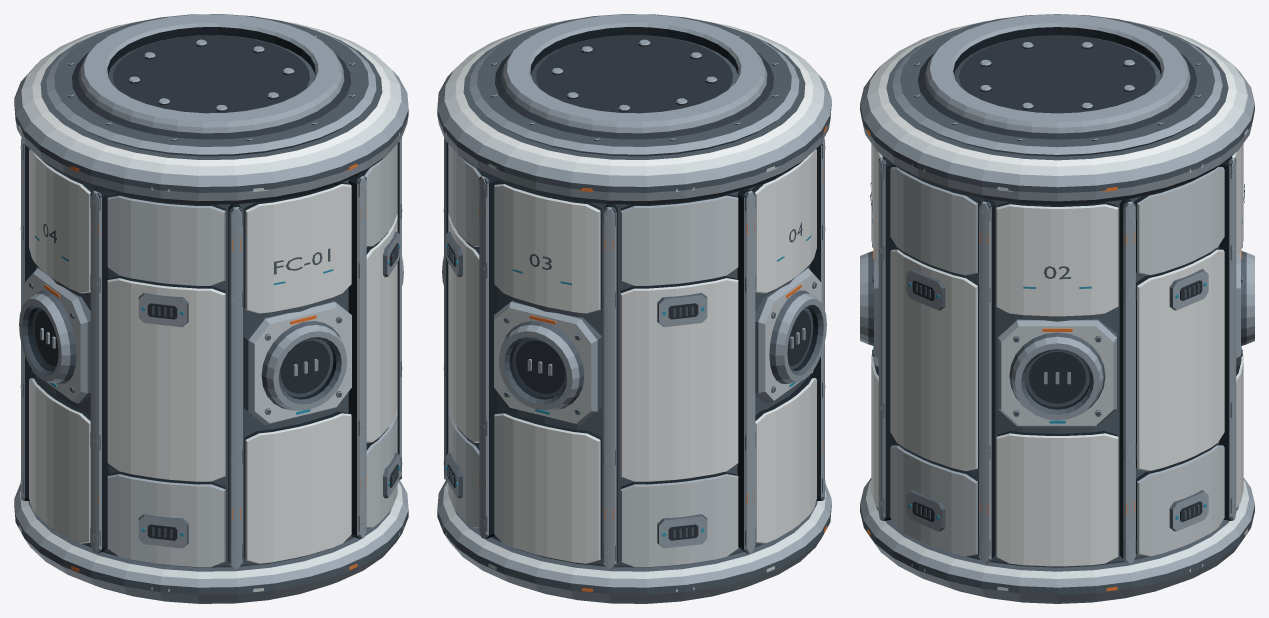
Rendered from fuselaje_central.glb.
The picture shows the model from 3 angles, left to right: view 1: azimuth 30°, elevation 25°; view 2: azimuth 150°, elevation 25°; view 3: azimuth 270°, elevation 25°; orthographic projection.
Parts seen in each view (by area): view 1: FC | Carenados segmentados 06, FC | Carenados segmentados 07, FC | Asiento anular de cabina, FC | Anillo estructural superior, FC | Refuerzos longitudinales de titanio, FC | Carenados segmentados 05, FC | Anillo estructural inferior, FC | Placa de interfaz de cabina, FC | Puerto lateral 01 · Frontal, FC | Carenados segmentados 08, FC | Puerto lateral 04 · Babor, FC | Cilindro estructural (+5 smaller); view 2: FC | Carenados segmentados 04, FC | Carenados segmentados 03, FC | Asiento anular de cabina, FC | Anillo estructural superior, FC | Refuerzos longitudinales de titanio, FC | Carenados segmentados 05, FC | Anillo estructural inferior, FC | Placa de interfaz de cabina, FC | Puerto lateral 03 · Posterior, FC | Carenados segmentados 02, FC | Puerto lateral 04 · Babor, FC | Cilindro estructural (+5 smaller); view 3: FC | Carenados segmentados 02, FC | Carenados segmentados 08, FC | Carenados segmentados 01, FC | Asiento anular de cabina, FC | Anillo estructural superior, FC | Refuerzos longitudinales de titanio, FC | Anillo estructural inferior, FC | Placa de interfaz de cabina, FC | Puerto lateral 02 · Estribor, FC | Cilindro estructural, FC | Registros de inspección 01, FC | Registros de inspección 04 (+6 smaller).
Boxes of the visible parts, box(x1,y1,x2,y2) form: FC | Carenados segmentados 06: box(107, 194, 225, 567); FC | Carenados segmentados 07: box(244, 182, 351, 563); FC | Asiento anular de cabina: box(46, 14, 376, 156); FC | Anillo estructural superior: box(14, 20, 408, 204); FC | Refuerzos longitudinales de titanio: box(21, 138, 401, 569); FC | Carenados segmentados 05: box(29, 149, 94, 543); FC | Anillo estructural inferior: box(14, 480, 408, 603); FC | Placa de interfaz de cabina: box(108, 35, 314, 113); FC | Puerto lateral 01 · Frontal: box(243, 300, 351, 424); FC | Carenados segmentados 08: box(360, 144, 397, 528); FC | Puerto lateral 04 · Babor: box(19, 267, 90, 403); FC | Cilindro estructural: box(36, 179, 366, 567); FC | Carenados segmentados 04: box(620, 194, 738, 567); FC | Carenados segmentados 03: box(494, 182, 601, 563); FC | Asiento anular de cabina: box(469, 14, 799, 156); FC | Anillo estructural superior: box(437, 20, 831, 204); FC | Refuerzos longitudinales de titanio: box(444, 138, 824, 569); FC | Carenados segmentados 05: box(751, 149, 816, 543); FC | Anillo estructural inferior: box(437, 480, 831, 603); FC | Placa de interfaz de cabina: box(531, 35, 737, 113); FC | Puerto lateral 03 · Posterior: box(494, 300, 602, 424); FC | Carenados segmentados 02: box(448, 144, 485, 528); FC | Puerto lateral 04 · Babor: box(755, 267, 826, 403); FC | Cilindro estructural: box(479, 179, 809, 567); FC | Carenados segmentados 02: box(1134, 166, 1224, 556); FC | Carenados segmentados 08: box(890, 166, 980, 556); FC | Carenados segmentados 01: box(996, 202, 1118, 566); FC | Asiento anular de cabina: box(892, 14, 1222, 156); FC | Anillo estructural superior: box(860, 20, 1254, 204); FC | Refuerzos longitudinales de titanio: box(878, 157, 1236, 563); FC | Anillo estructural inferior: box(860, 478, 1254, 603); FC | Placa de interfaz de cabina: box(954, 35, 1160, 113); FC | Puerto lateral 02 · Estribor: box(998, 319, 1116, 426); FC | Cilindro estructural: box(895, 196, 1219, 567); FC | Registros de inspección 01: box(1169, 268, 1208, 531); FC | Registros de inspección 04: box(906, 268, 945, 531).
Bounding box in the file's own units: 3 × 4 × 3.
